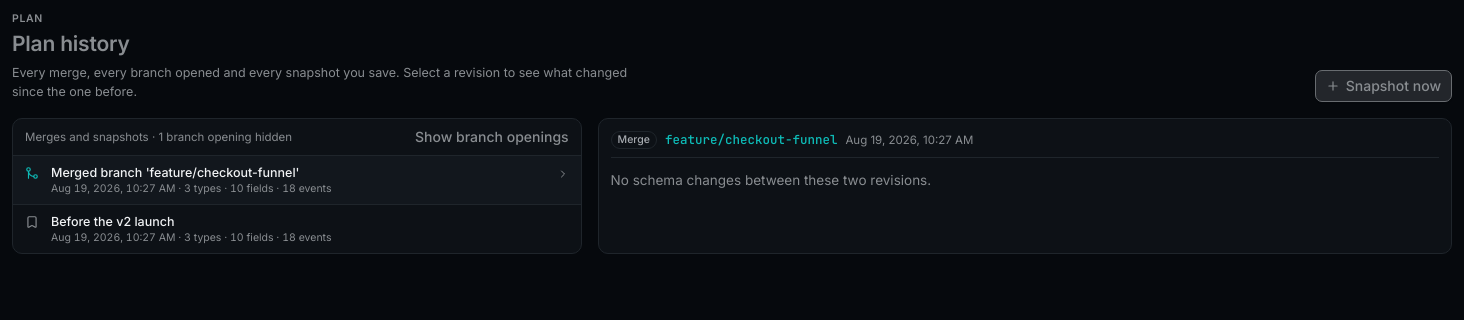
Test: HistoryTab — what wrote each revision (PL-21) › folds branch openings away when the page has merges or snapshots, and shows them on request
The image size is (1464, 320).
Expected: the text "Merged branch 'feature/checkout-funnel'" is shown, [51, 164, 300, 180]
Expected: the text "Before the v2 launch" is shown, [51, 214, 174, 228]
What coordinates should you click on to do the following:
click the button "Show branch openings"
I would click on:
 (492, 136)
Its box is [415, 126, 569, 146].
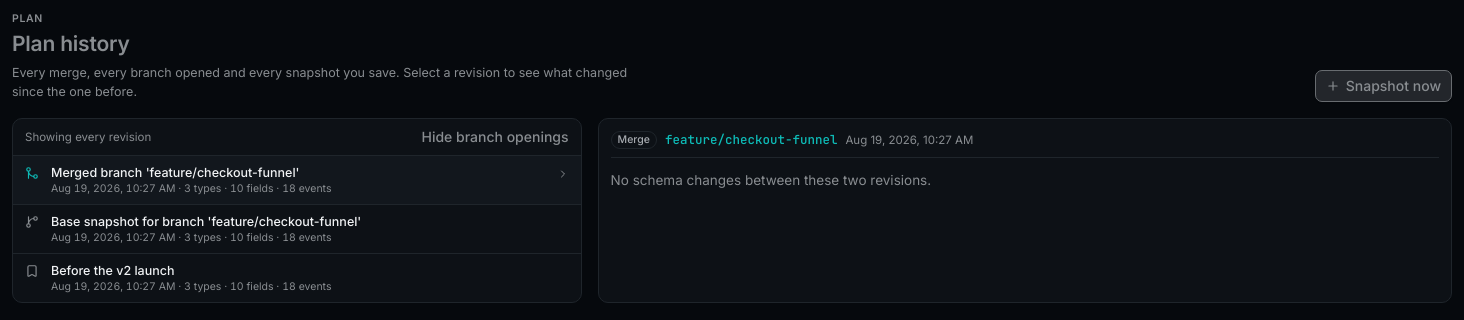
Result: the text "Base snapshot for branch 'feature/checkout-funnel'" is shown at [51, 214, 361, 228]
